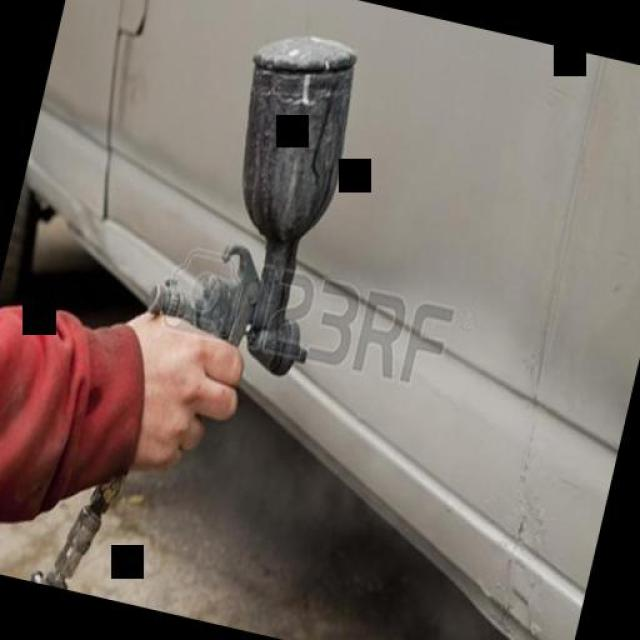gun: (94, 214, 326, 458)
